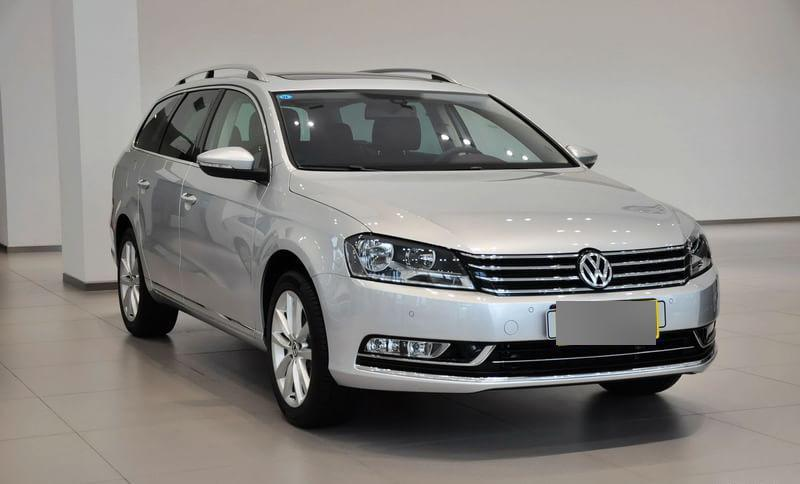Wagon: (108, 61, 722, 427)
